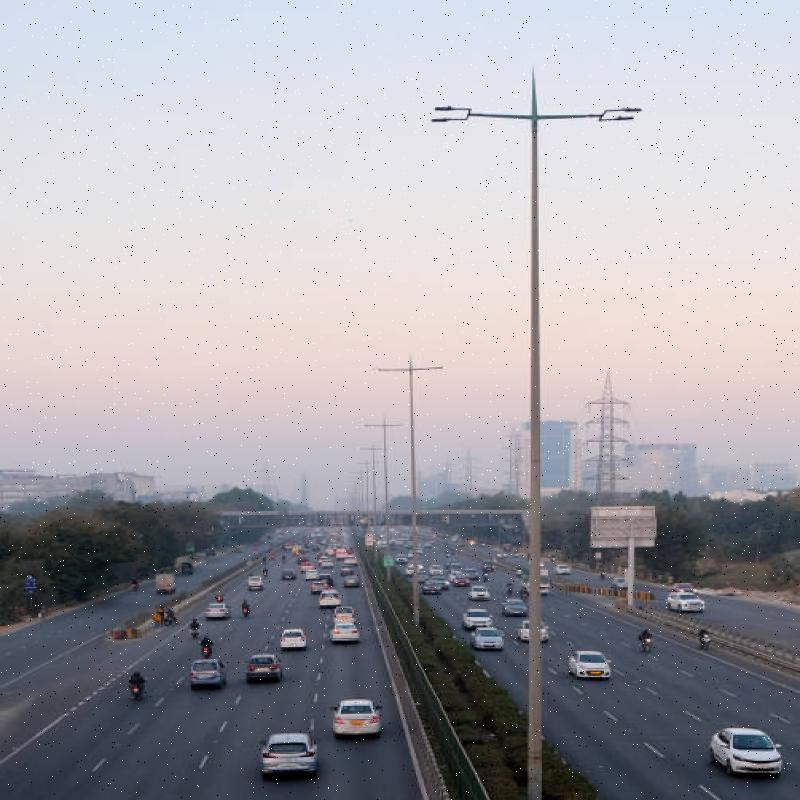bike: (116, 666, 160, 706), (635, 628, 671, 668), (696, 621, 718, 650), (185, 618, 205, 638)
car: (706, 721, 795, 790), (244, 732, 327, 781), (324, 698, 400, 744), (554, 643, 618, 685), (656, 581, 715, 618), (242, 650, 291, 690), (451, 626, 515, 656), (456, 598, 491, 632), (187, 654, 225, 685), (325, 621, 355, 654), (283, 628, 311, 657)
